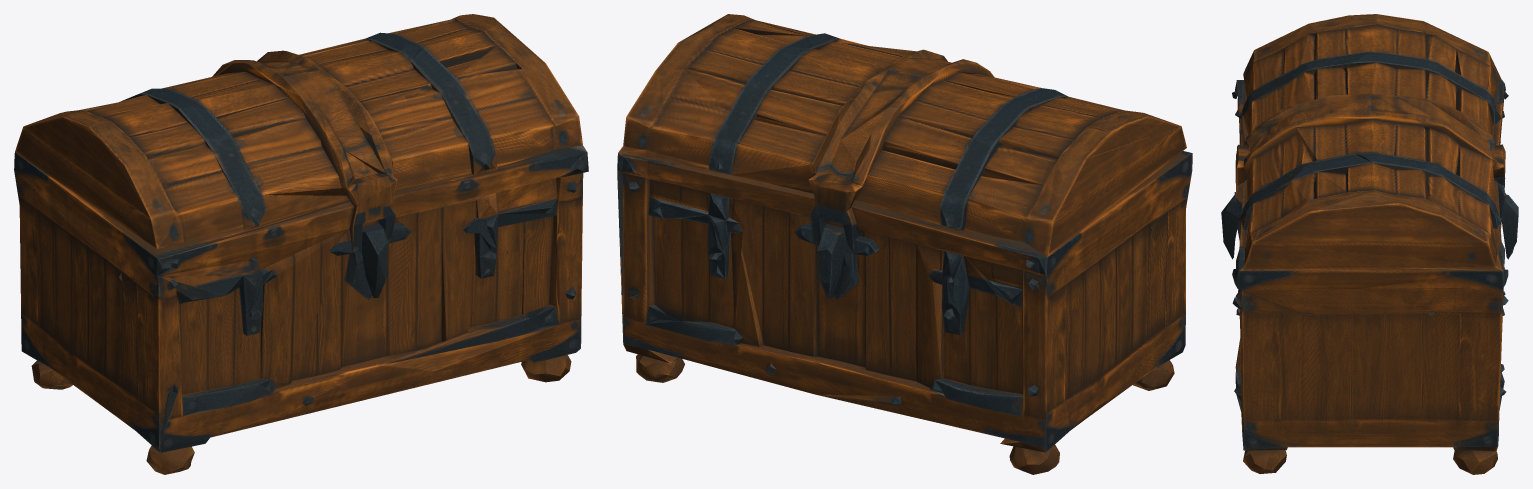
File: chest.glb
The picture shows the model from 3 angles, left to right: view 1: azimuth 30°, elevation 25°; view 2: azimuth 150°, elevation 25°; view 3: azimuth 270°, elevation 25°; orthographic projection. The views are drawn at different scales.
Size of the model in its own units: 1.89 by 1.3 by 1.24.
1 material, 1 textured.
